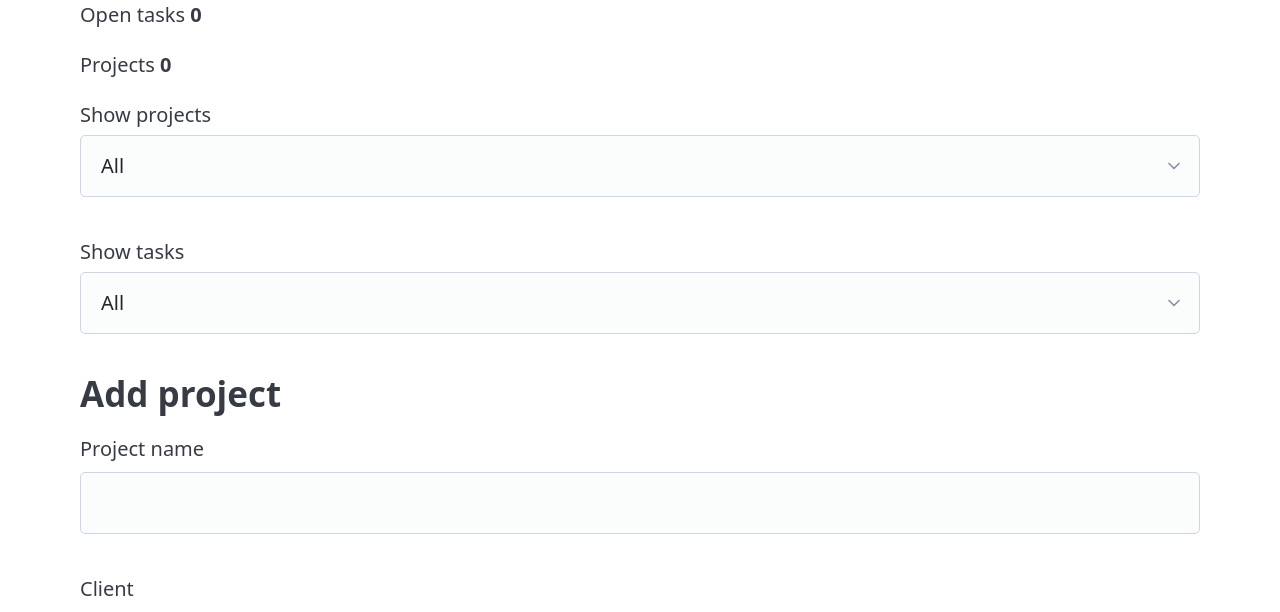
Test: multi-entity binder › adds to each entity independently
Type "Kitchen" into the field labelled "Project name".
click(640, 503); type("Kitchen")  # box [80,472,1200,534]
(page scrolled)
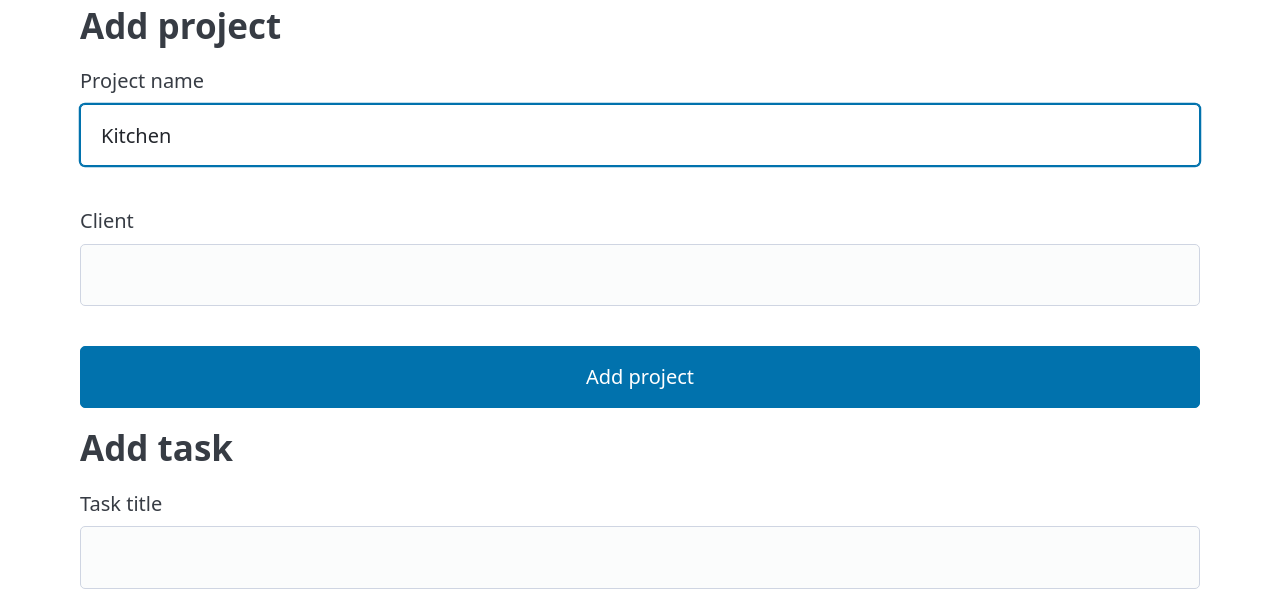
Type "Ada" into the field labelled "Client".
click(640, 275); type("Ada")  # box [80,244,1200,306]
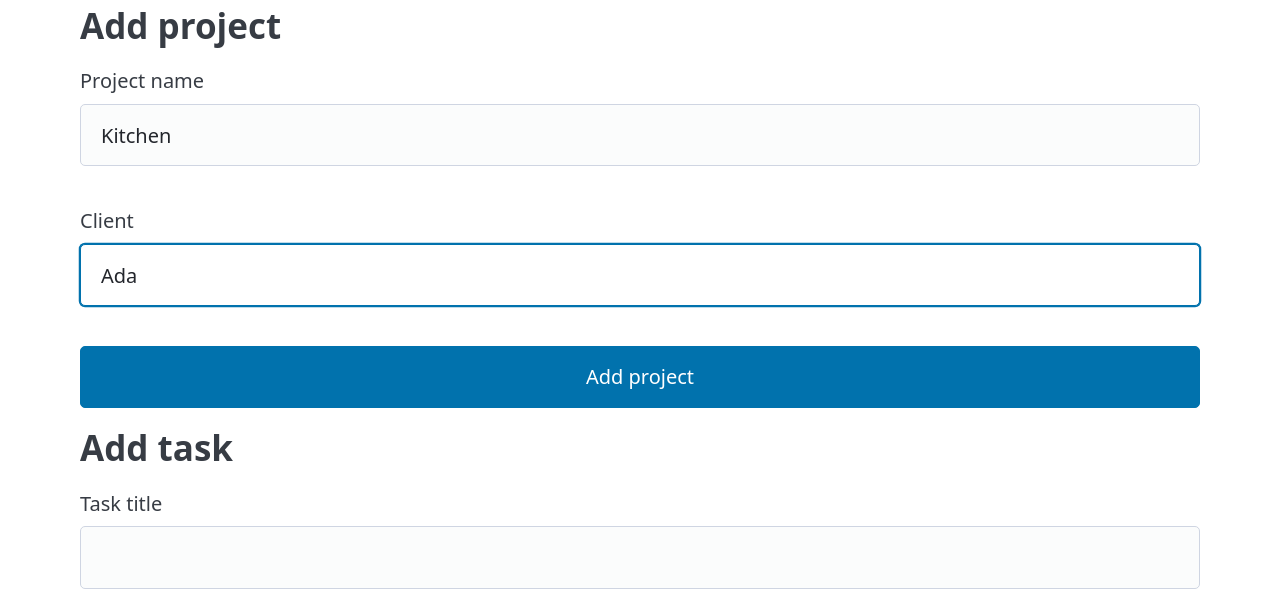
Click the button "Add project".
click(640, 377)  # box [80,346,1200,408]
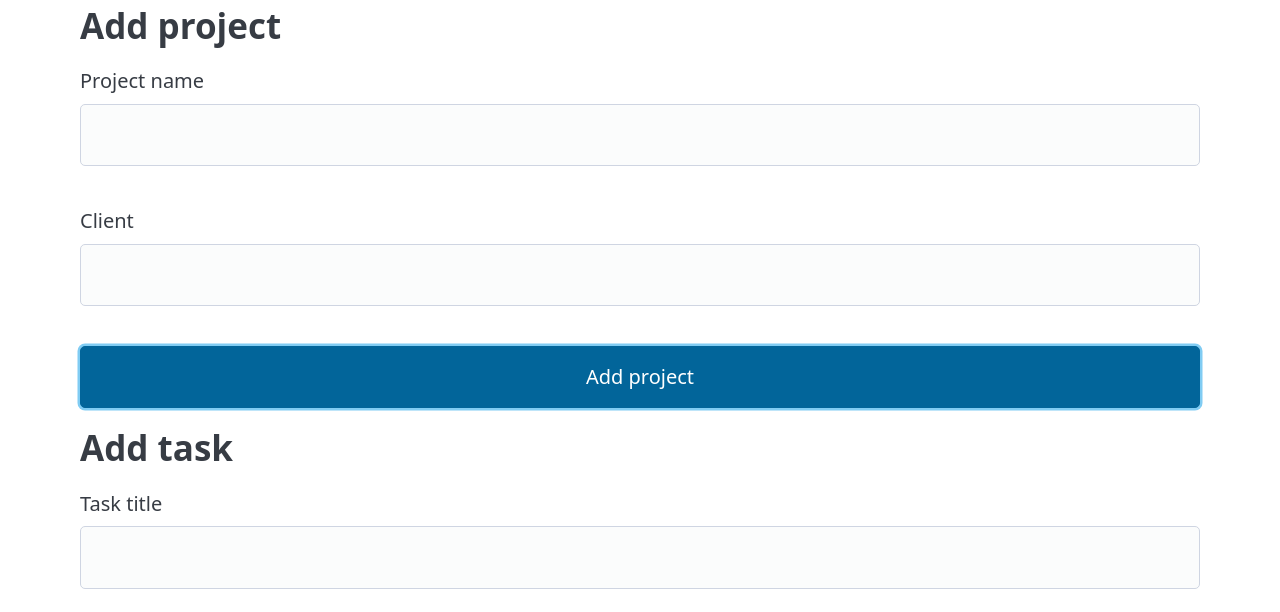
Type "Sand the floor" into the field labelled "Task title".
click(640, 557); type("Sand the floor")  # box [80,526,1200,588]
(page scrolled)
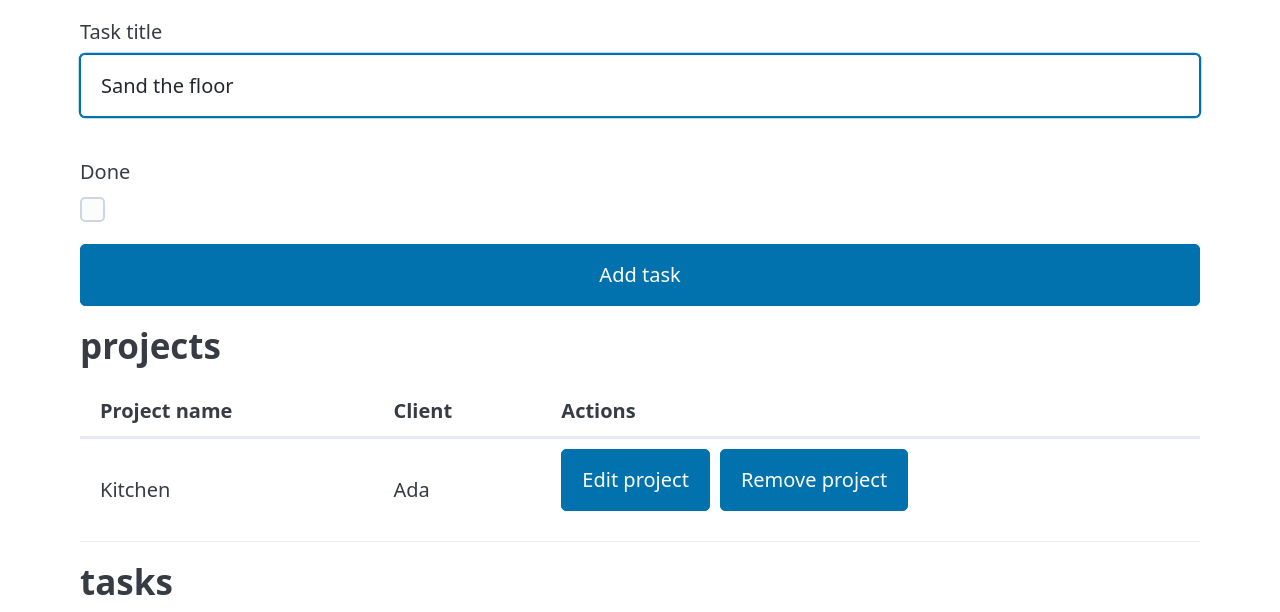
Click the button "Add task".
click(640, 275)  # box [80,244,1200,306]
(page scrolled)
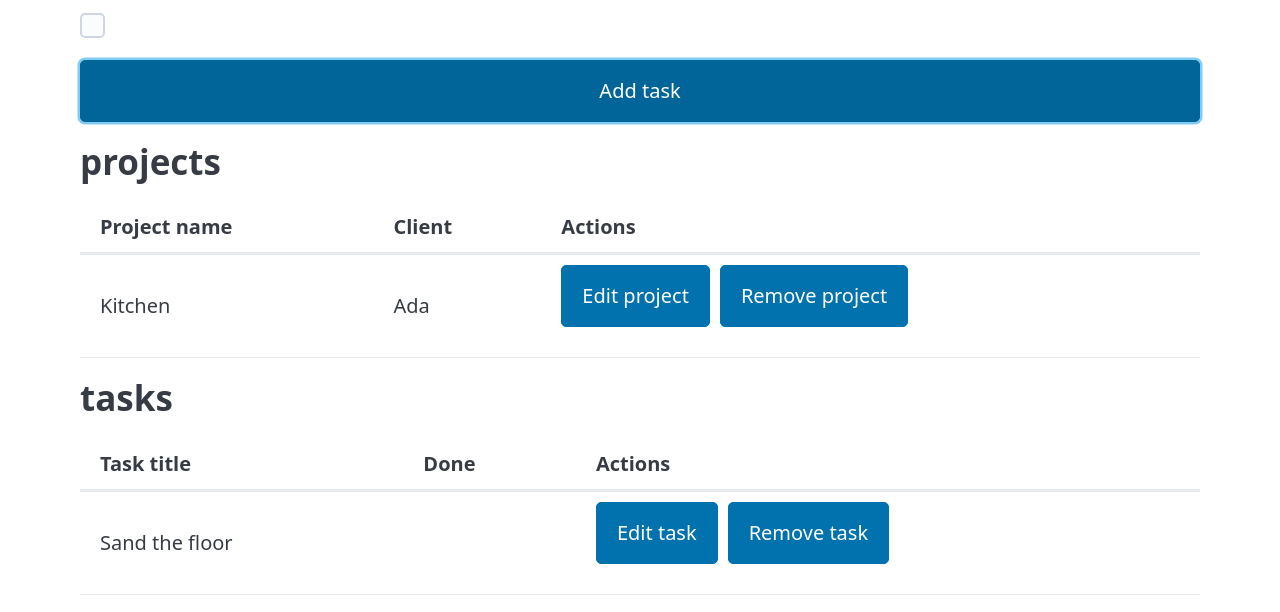
Now the row "Kitchen Ada Edit project Remove project" is shown, box [80,254,1200,358]
Now the row "Sand the floor Edit task Remove task" is shown, box [80,490,1200,594]
